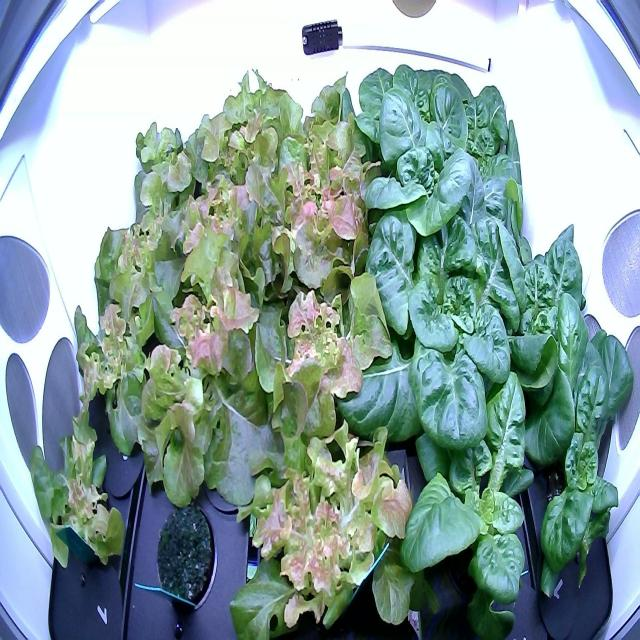pod: (148, 494, 221, 624)
young: (324, 198, 546, 458), (384, 356, 540, 630), (513, 318, 636, 610), (473, 201, 606, 403), (358, 77, 494, 255), (426, 60, 540, 229), (351, 50, 483, 185)
